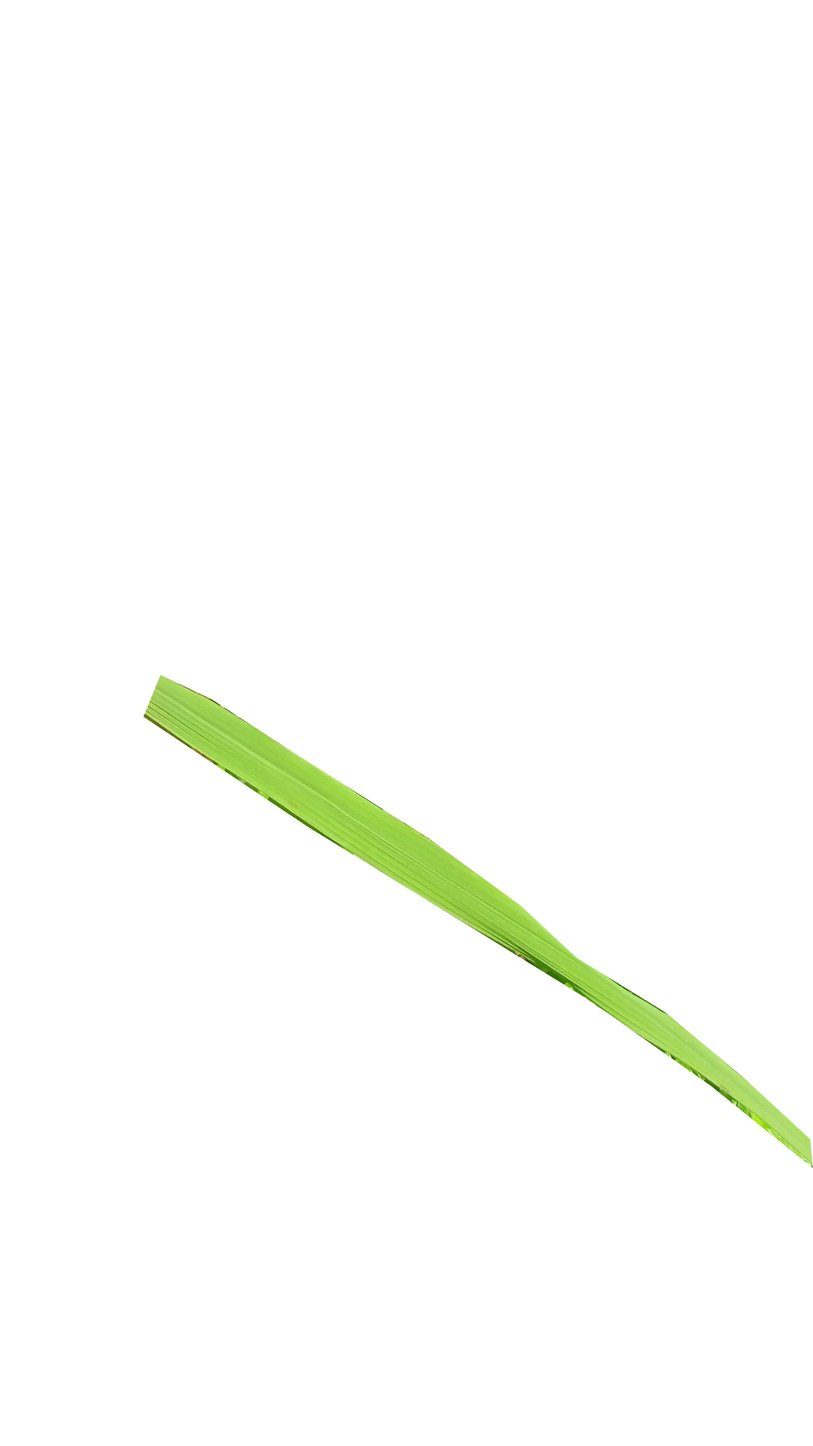Tungro: (142, 677, 813, 1174)
